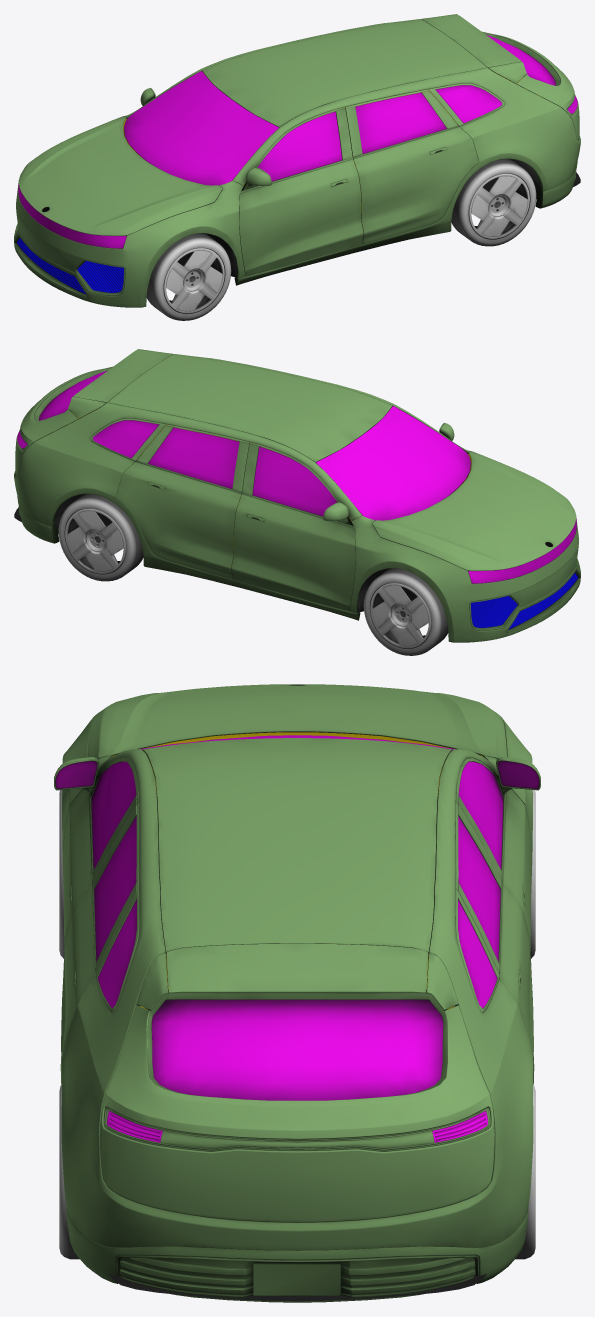
Rendered from UnityCar_low.fbx.
3 views of the same model, one above another, from view 1: azimuth 30°, elevation 25°; view 2: azimuth 150°, elevation 25°; view 3: azimuth 270°, elevation 25° (orthographic). The views are drawn at different scales.
Visible parts, largest first — view 1: frame_roof_panel_MESH_00, frunk_MESH_00, frame_rear_quarter_pane_MESH_00, Windshield_MESH_00, door_left_front_outer_panel_MESH_00, door_left_rear_outer_panel_MESH_00, frame_front_fender_MESH_00, door_left_rear_window_MESH_00, door_left_front_window_MESH_00, tire_00, tire_01, trunk_rear_roof_panel_MESH_00 (+21 smaller); view 2: frame_roof_panel_MESH_00, frunk_MESH_00, frame_rear_quarter_pane_MESH_00, Windshield_MESH_00, door_right_front_outer_panel_MESH_00, door_right_rear_outer_panel_MESH_00, frame_front_fender_MESH_00, door_right_rear_window_MESH_00, door_right_front_window_MESH_00, tire_02, tire_03, trunk_rear_roof_panel_MESH_00 (+21 smaller); view 3: frame_roof_panel_MESH_00, frame_rear_quarter_pane_MESH_00, trunk_liftgate_outer_panel_MESH_00, trunk_rear_glass_MESH_00, frunk_MESH_00, trunk_rear_roof_panel_MESH_00, frame_bumper_insert_MESH_00, frame_bumper_fascia_MESH_00, C_pillar_quarter_glass_MESH_00, door_left_rear_outer_panel_MESH_00, door_right_rear_outer_panel_MESH_00, door_left_front_outer_panel_MESH_00 (+22 smaller).
Part boxes in pixels (x1,y1,x2,y2): frame_roof_panel_MESH_00: (202, 19, 487, 127); frunk_MESH_00: (18, 116, 222, 235); frame_rear_quarter_pane_MESH_00: (137, 19, 580, 281); Windshield_MESH_00: (124, 71, 279, 185); door_left_front_outer_panel_MESH_00: (239, 159, 363, 275); door_left_rear_outer_panel_MESH_00: (353, 127, 478, 244); frame_front_fender_MESH_00: (14, 110, 245, 307); door_left_rear_window_MESH_00: (355, 92, 446, 153); door_left_front_window_MESH_00: (257, 111, 342, 181); tire_00: (146, 233, 231, 320); tire_01: (451, 158, 536, 246); trunk_rear_roof_panel_MESH_00: (422, 14, 521, 67); frame_roof_panel_MESH_00: (107, 354, 392, 462); frunk_MESH_00: (372, 451, 576, 570); frame_rear_quarter_pane_MESH_00: (14, 354, 457, 616); Windshield_MESH_00: (315, 406, 470, 520); door_right_front_outer_panel_MESH_00: (231, 494, 355, 610); door_right_rear_outer_panel_MESH_00: (116, 462, 241, 579); frame_front_fender_MESH_00: (349, 445, 580, 642); door_right_rear_window_MESH_00: (148, 427, 239, 488); door_right_front_window_MESH_00: (252, 446, 337, 516); tire_02: (363, 568, 448, 655); tire_03: (58, 493, 143, 581); trunk_rear_roof_panel_MESH_00: (73, 349, 172, 402); frame_roof_panel_MESH_00: (143, 738, 451, 953); frame_rear_quarter_pane_MESH_00: (61, 749, 533, 1250); trunk_liftgate_outer_panel_MESH_00: (100, 1005, 494, 1222); trunk_rear_glass_MESH_00: (151, 999, 443, 1100); frunk_MESH_00: (88, 684, 506, 758); trunk_rear_roof_panel_MESH_00: (166, 943, 428, 993); frame_bumper_insert_MESH_00: (119, 1257, 475, 1298); frame_bumper_fascia_MESH_00: (66, 1209, 528, 1283); C_pillar_quarter_glass_MESH_00: (97, 899, 497, 1008); door_left_rear_outer_panel_MESH_00: (60, 884, 95, 1070); door_right_rear_outer_panel_MESH_00: (499, 884, 534, 1070); door_left_front_outer_panel_MESH_00: (61, 789, 91, 1023).
Size of the model in its own units: 490 by 151 by 201.
